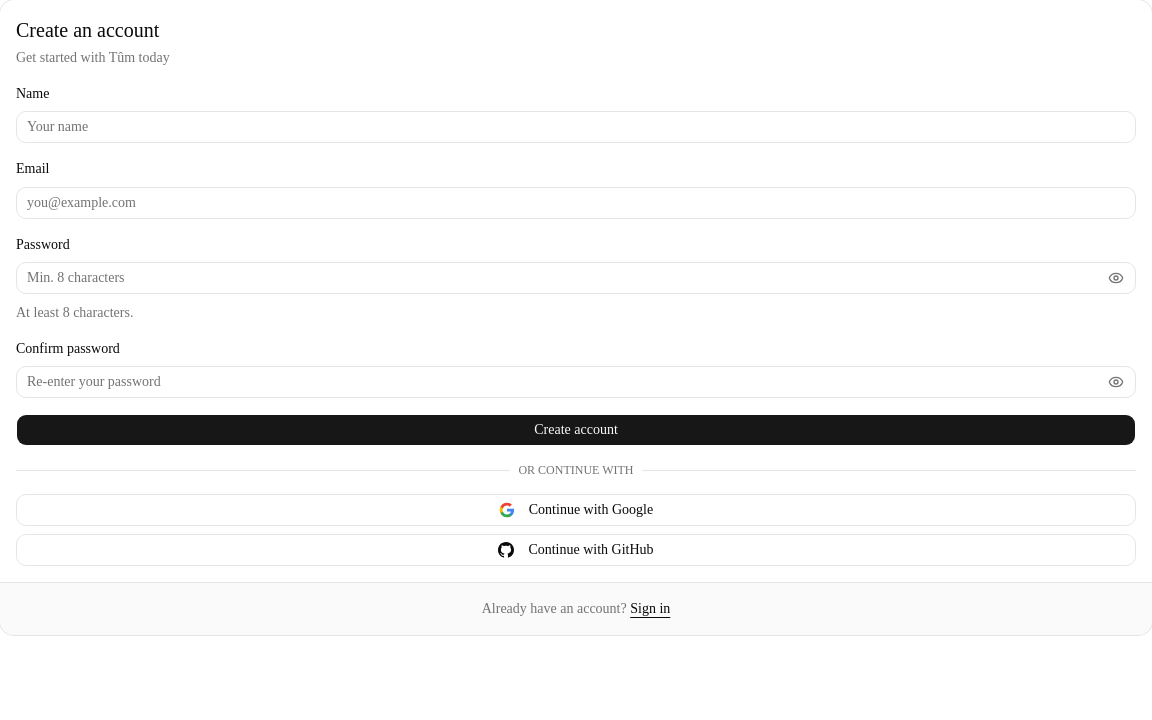
Test: SignupForm › shows verification prompt after successful sign-up
In the field labelled "Name": coordinates (576, 127) [16,111,1136,143], type "Alice"
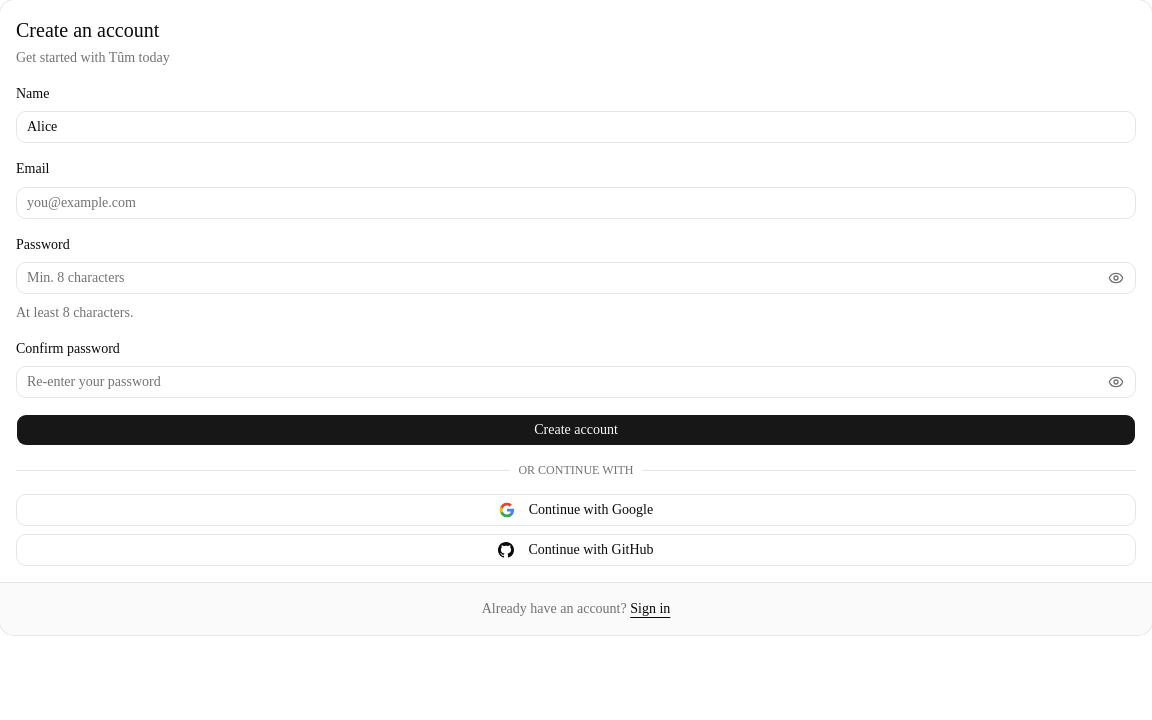
In the field labelled "Email": coordinates (576, 202) [16,186,1136,218], type "alice@test.com"
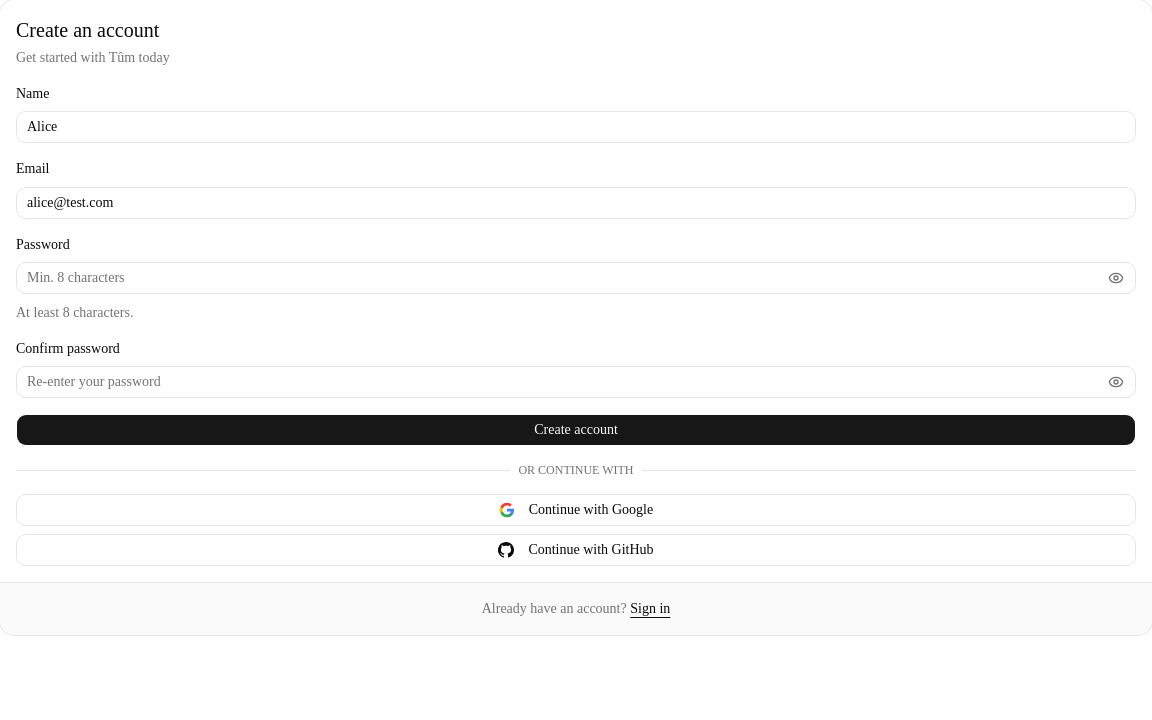
In the password field labelled "Password": coordinates (558, 278) [17,262,1100,294], type "password123"
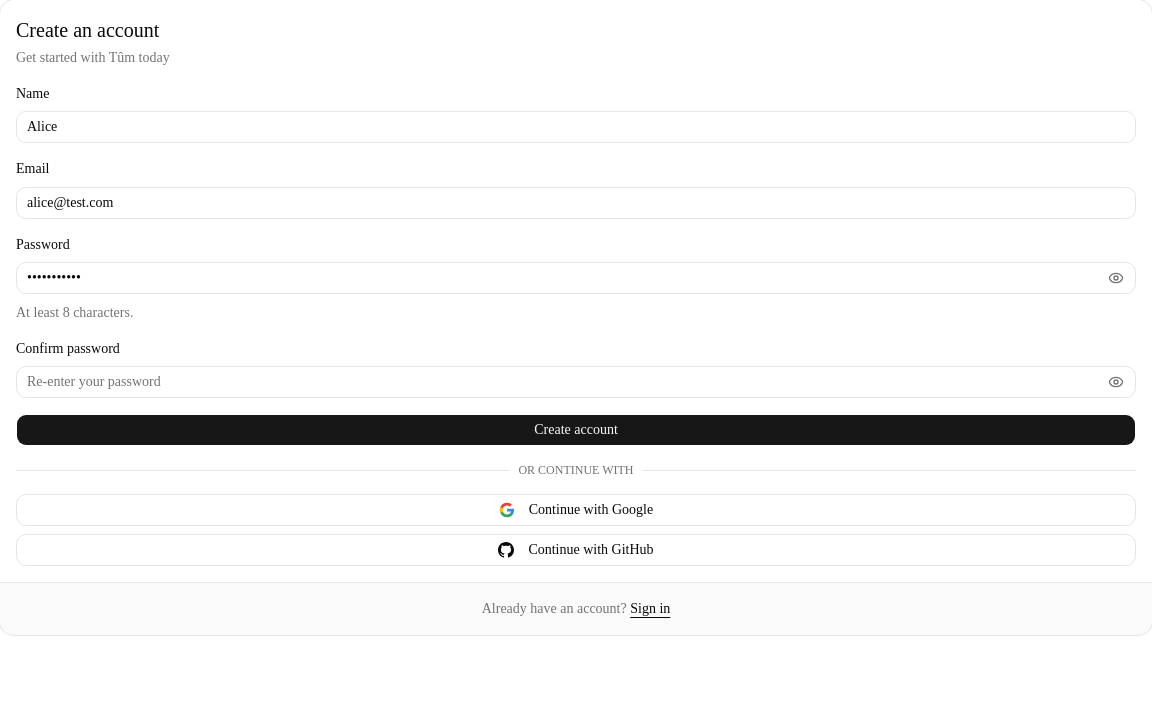
In the password field labelled "Confirm password": coordinates (558, 382) [17,366,1100,398], type "password123"
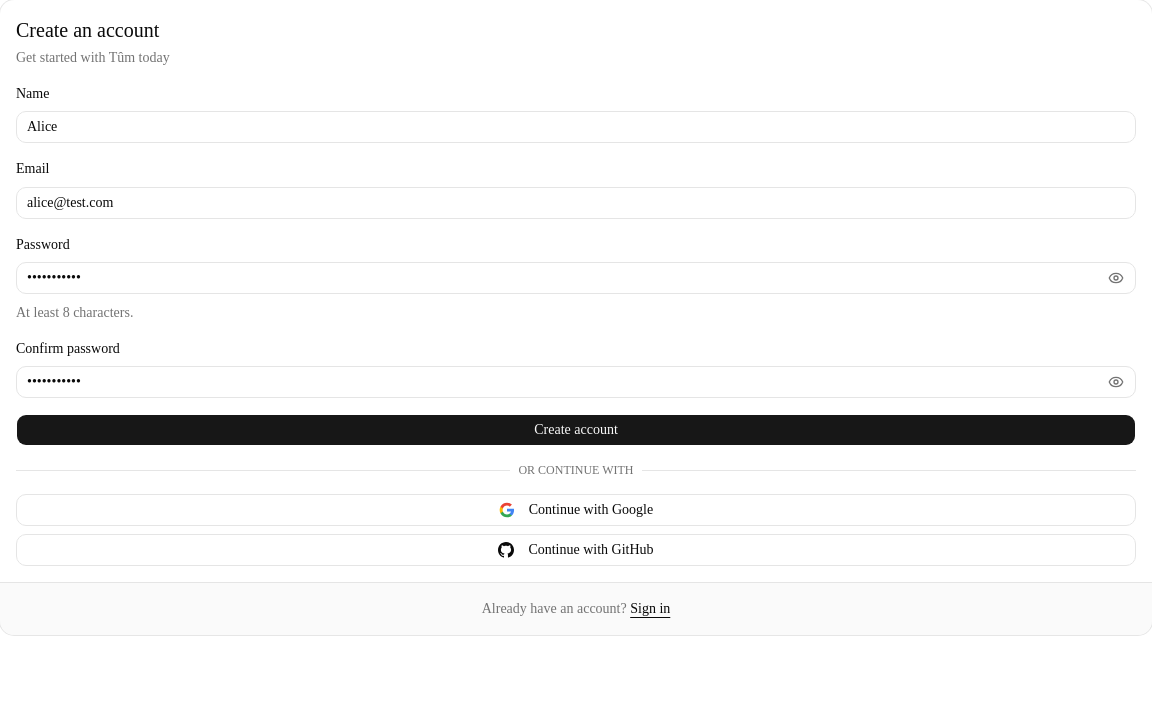
Click the button "Create account": coordinates (576, 430) [16,414,1136,446]
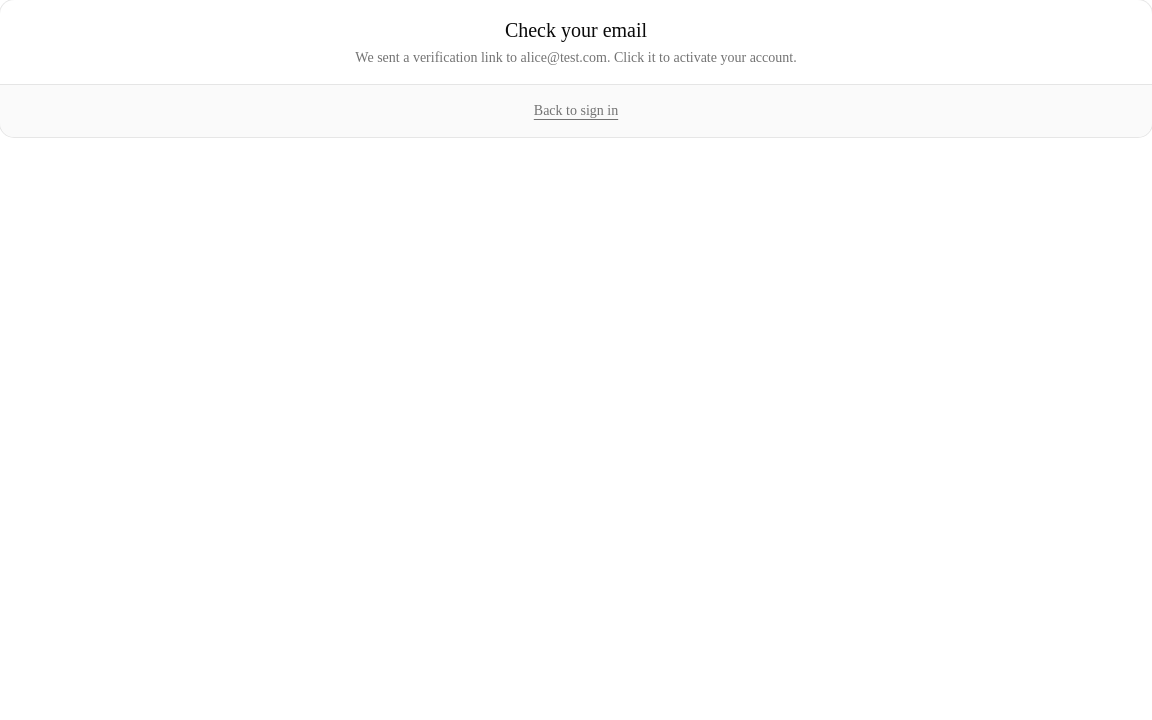
Check: the text "Check your email" is shown, box [505,19,647,41]
